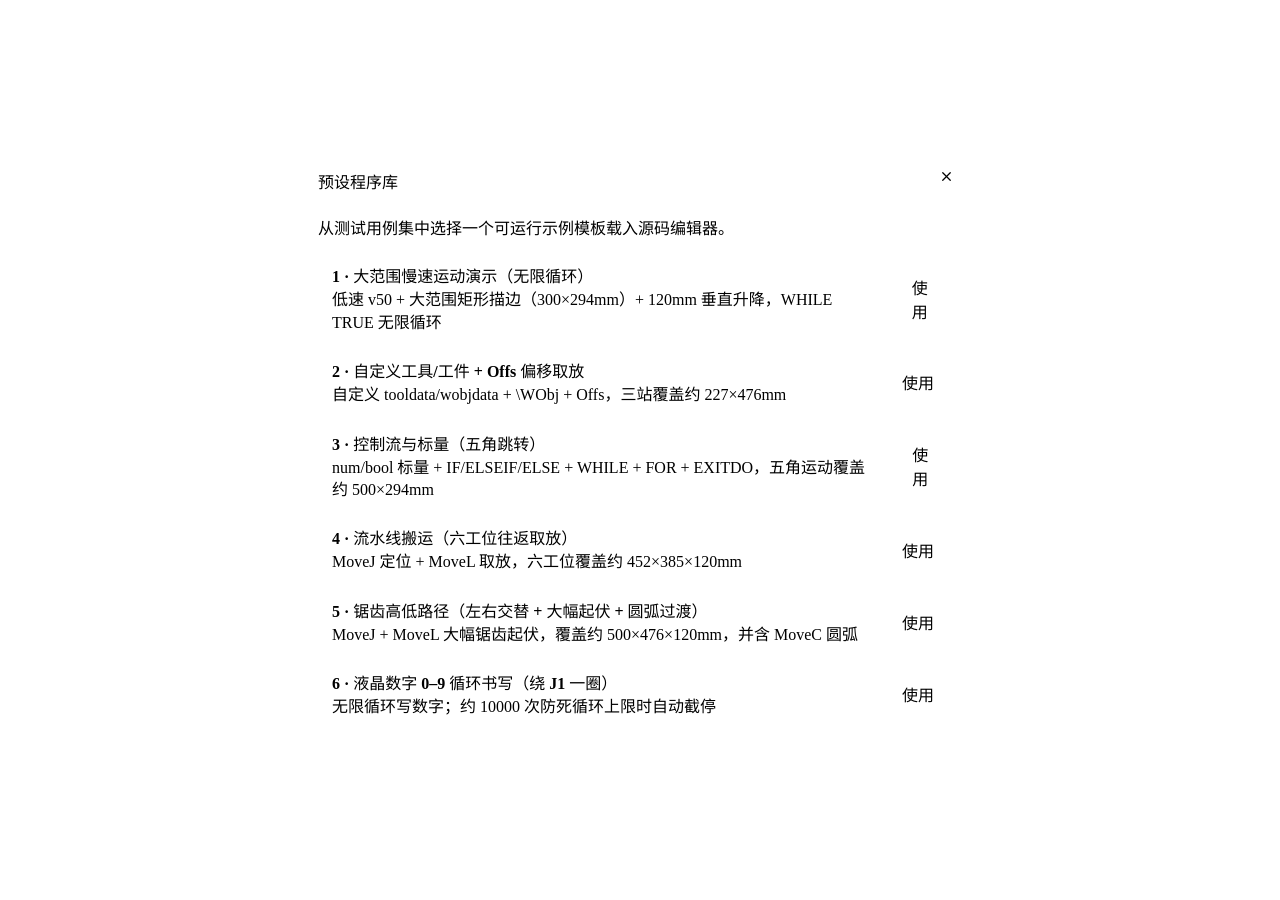
it: PresetLibraryDialog 全屏预设库 › sourceEdited 为真时确认文案提示覆盖已修改内容
The width and height of the screenshot is (1280, 900).
Step 1. Click the button "使用" in the row of "1 · 大范围慢速运动演示（无限循环）" → (920, 299), box [890,268,950,330]
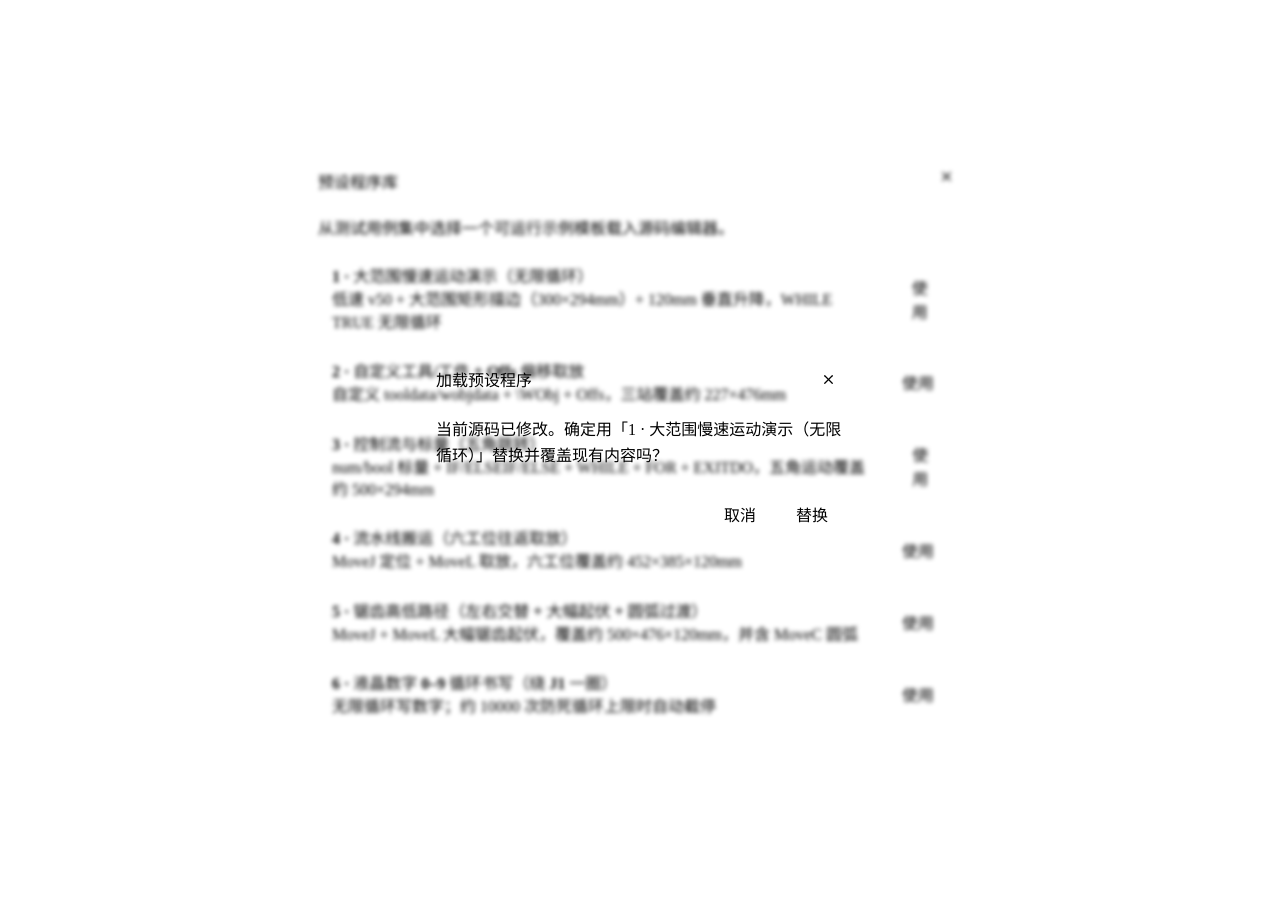
Check: the text "当前源码已修改。确定用「1 · 大范围慢速运动演示（无限循环）」替换并覆盖现有内容吗？" is shown, box [436,417,844,469]
